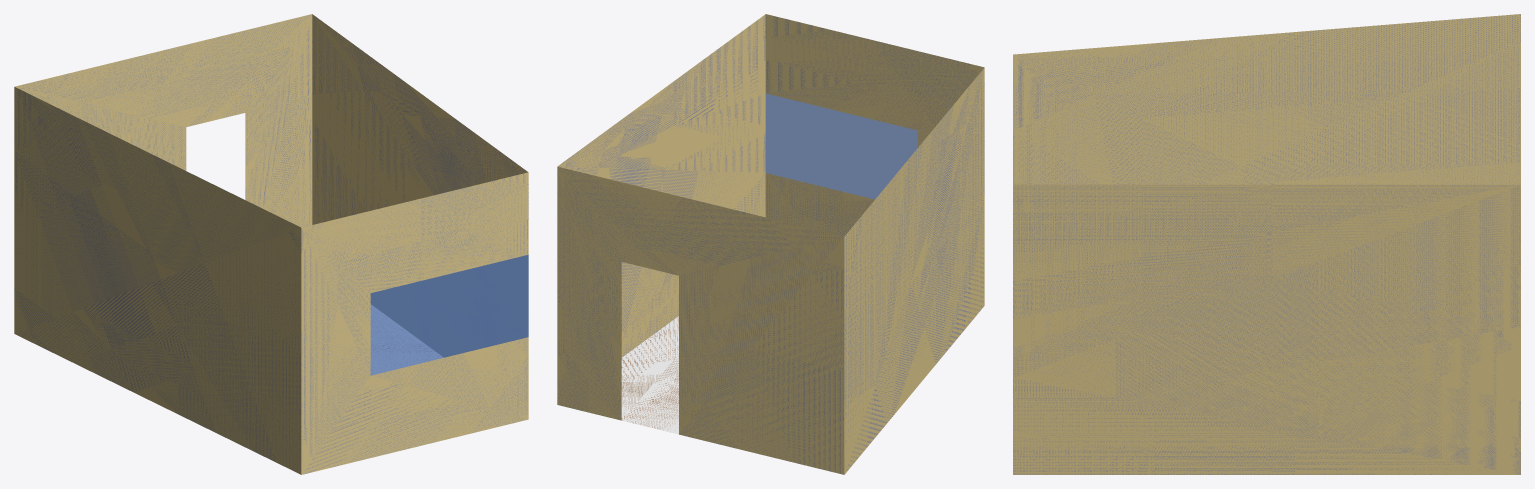
The model's file is DES014.obj.
The picture shows the model from 3 angles, left to right: view 1: azimuth 30°, elevation 25°; view 2: azimuth 150°, elevation 25°; view 3: azimuth 270°, elevation 25°; orthographic projection. The views are drawn at different scales.
Visible parts, largest first — view 1: Mesh1 DES014 Model; view 2: Mesh1 DES014 Model; view 3: Mesh1 DES014 Model.
Part boxes in pixels (x1=…): Mesh1 DES014 Model: x1=14, y1=14, x2=528, y2=474; Mesh1 DES014 Model: x1=557, y1=14, x2=984, y2=474; Mesh1 DES014 Model: x1=1013, y1=14, x2=1520, y2=474.
Size of the model in its own units: 3.8 by 3.02 by 4.78.
Materials: 5 (1 with a texture image).
